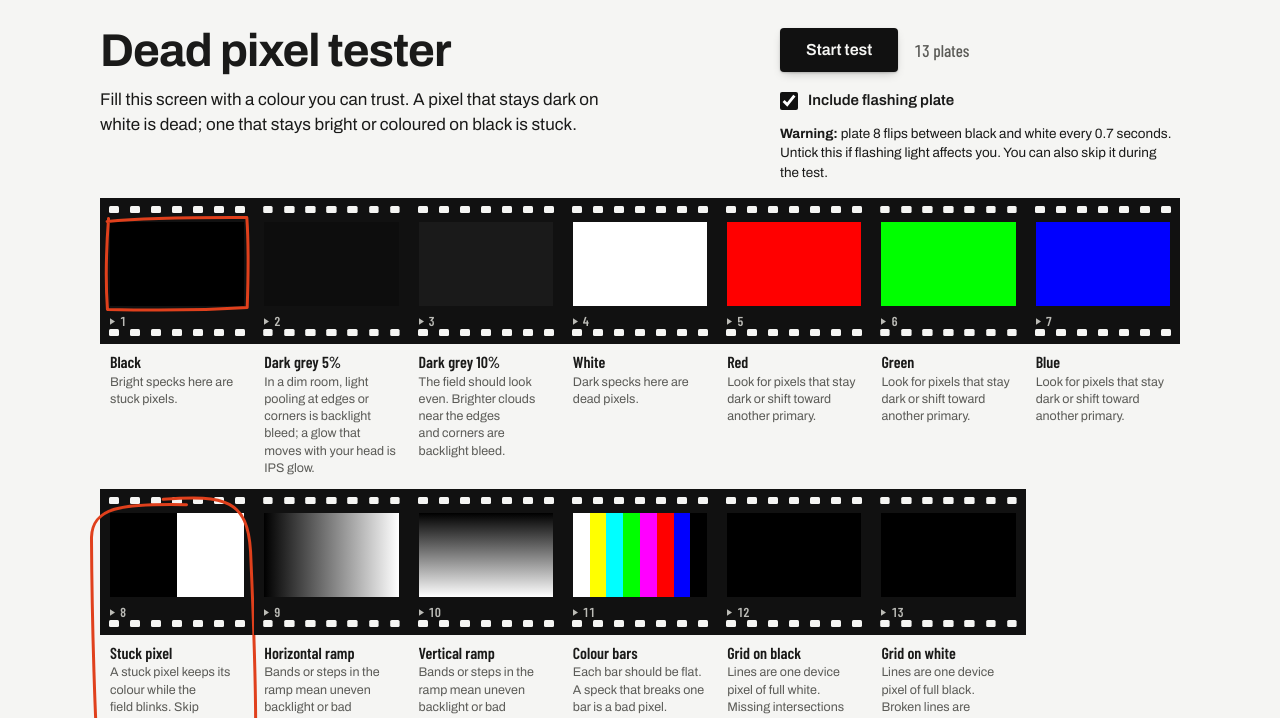
Test: summary › shows plates the run did not reach as not reached, after a Stop
Later steps or results of the test are not shown.
Step 1. Click the button "Start test" → {"x": 839, "y": 50}, box [780,28,898,72]
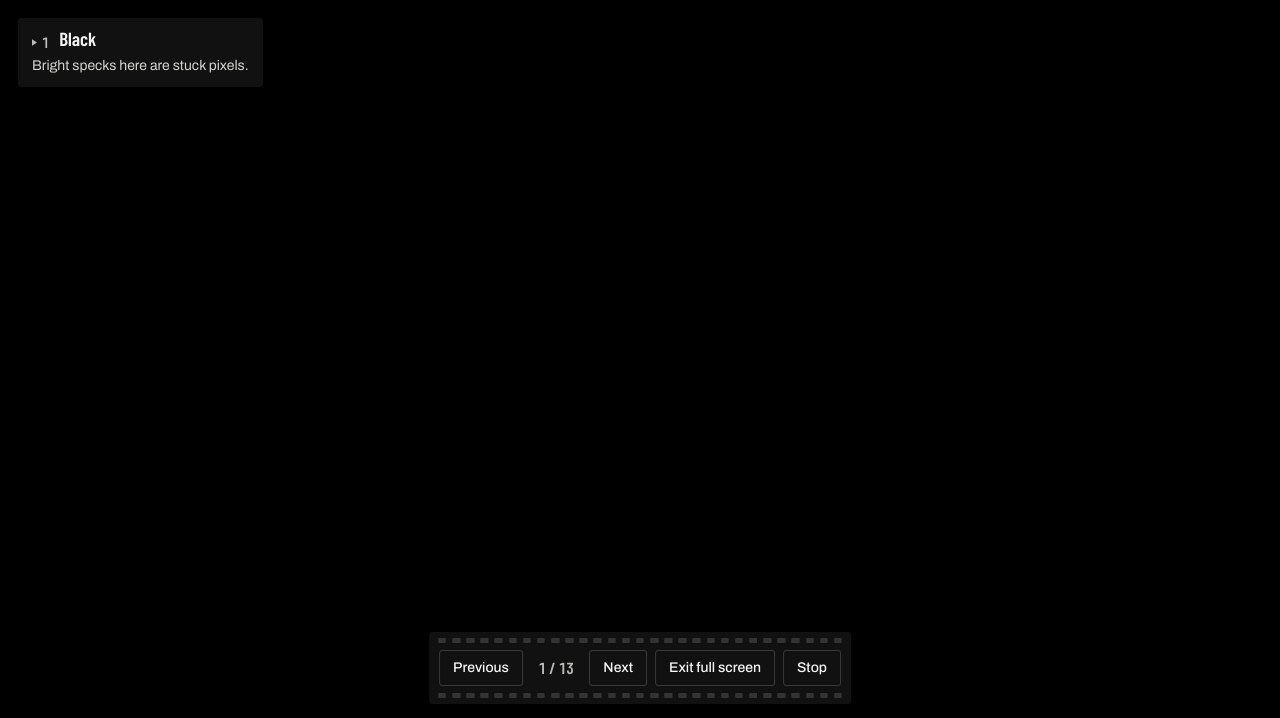
Step 2. Press ArrowRight
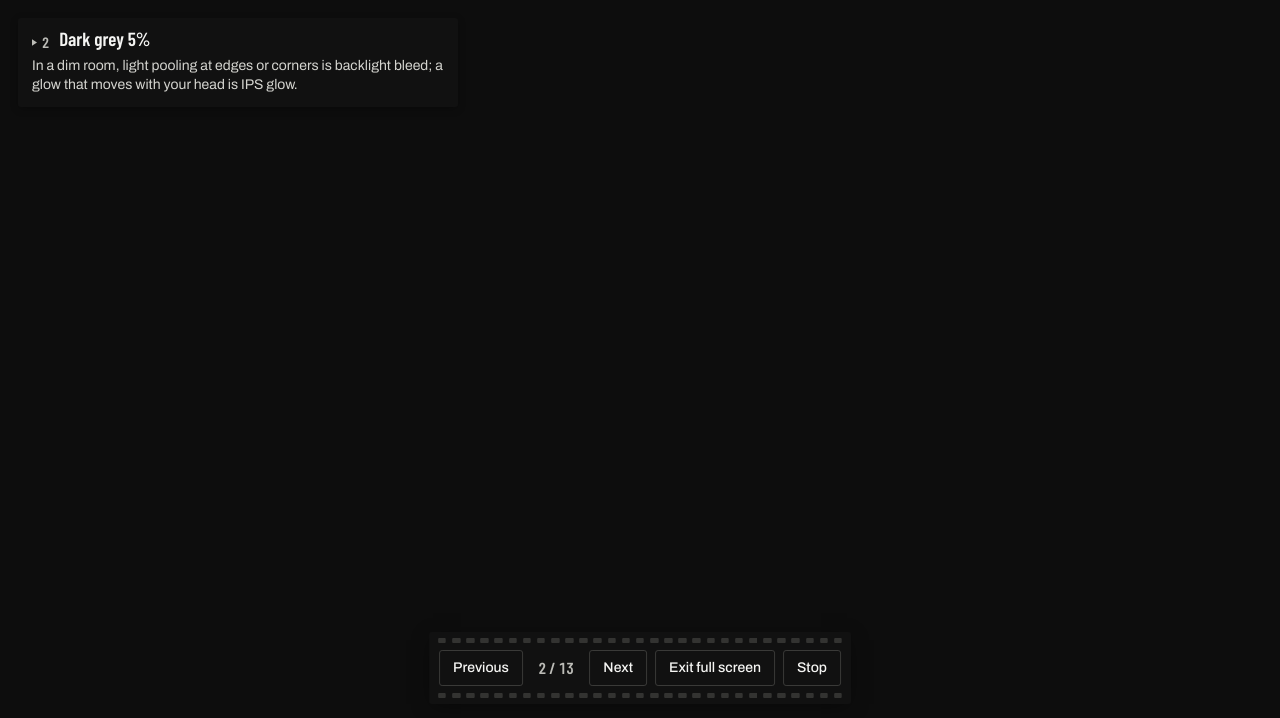
Step 3. Press ArrowRight
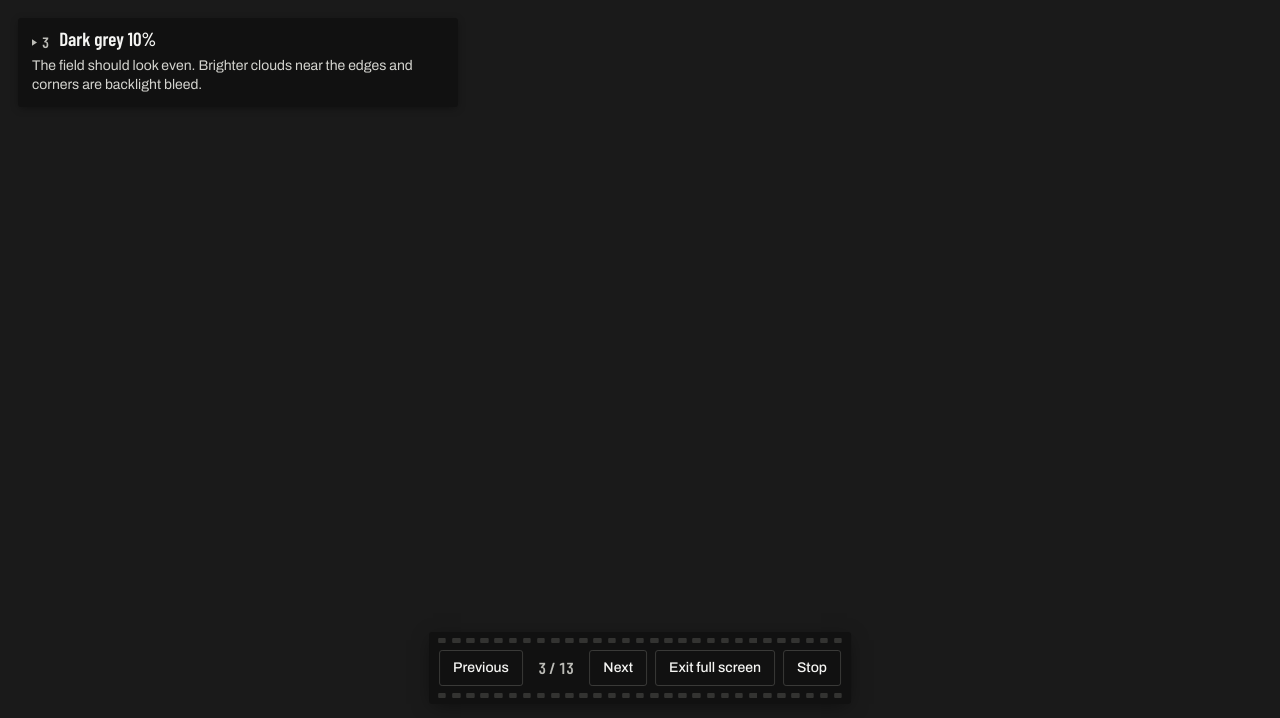
Step 4. Click the button "Stop" → {"x": 812, "y": 668}, box [783,650,841,686]
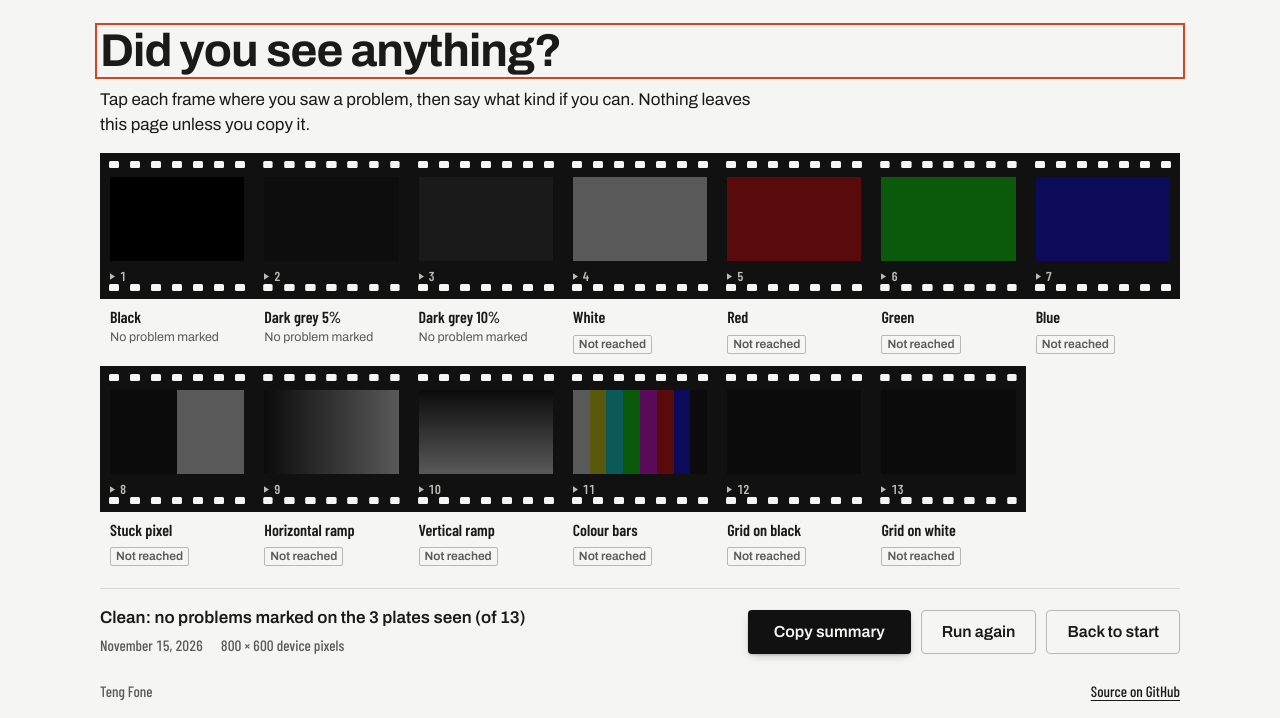
Expected: the heading "Did you see anything?" is shown, [100,26,561,76]
